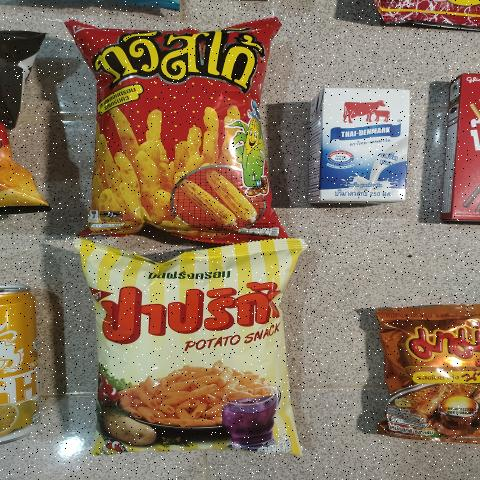mama: (369, 310, 480, 448)
paprika: (69, 239, 302, 457)
singha_yellow: (0, 274, 28, 442)
thai_denmark: (318, 88, 410, 204)
twisco: (95, 29, 268, 216)
